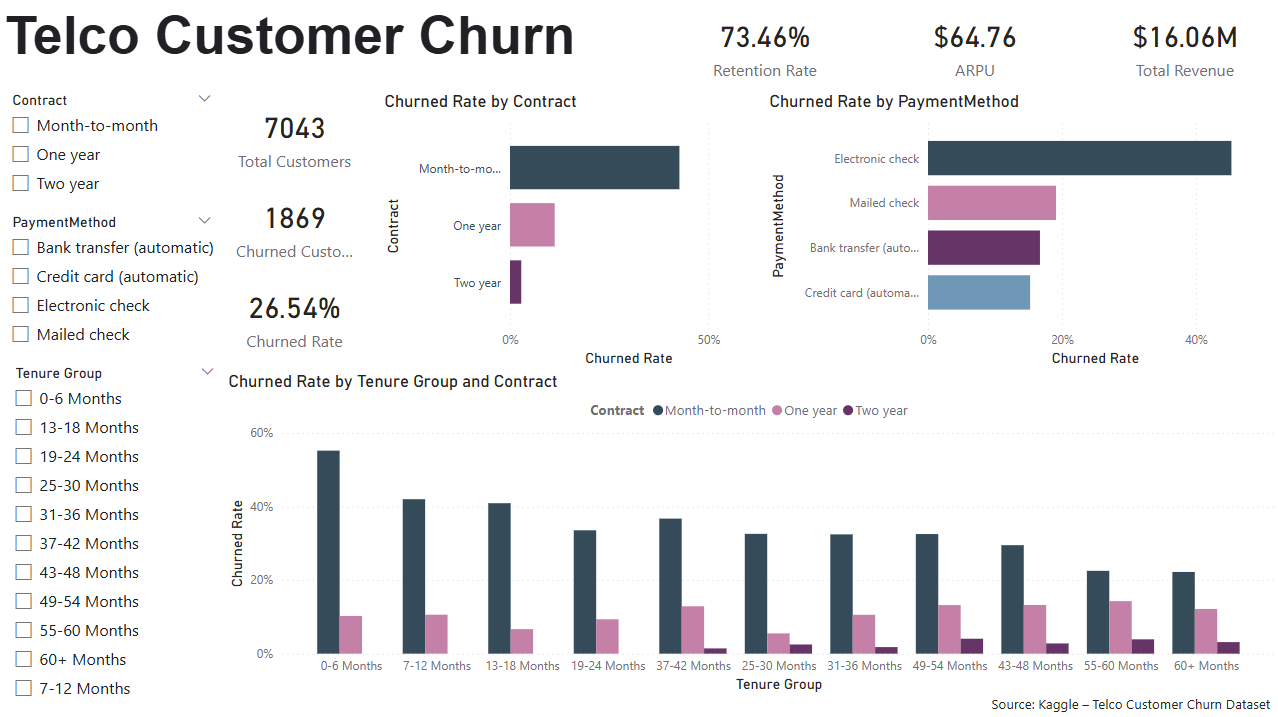

The dashboard page shown, as its layout file describes it:
{"tool":"powerbi","page":{"name":"Page 1","canvas":[1280,720],"ordinal":0},"visuals":[{"type":"card","fields":{"Values":["WA_Fn_UseC__Telco_Customer_Churn.Total Customers"]},"box":[227,91,135,90],"z":0},{"type":"textbox","box":[0,0,609.8,94.3],"z":1000},{"type":"card","fields":{"Values":["WA_Fn_UseC__Telco_Customer_Churn.Churned Customers"]},"box":[227,181,135,90],"z":2000},{"type":"card","fields":{"Values":["WA_Fn_UseC__Telco_Customer_Churn.Churned Rate"]},"box":[227,271,135,90],"z":3000},{"type":"card","fields":{"Values":["WA_Fn_UseC__Telco_Customer_Churn.Retention Rate"]},"box":[670,0,190,90],"z":4000},{"type":"clusteredColumnChart","fields":{"Category":["WA_Fn_UseC__Telco_Customer_Churn.Tenure Group"],"Y":["WA_Fn_UseC__Telco_Customer_Churn.Churned Rate"],"Series":["WA_Fn_UseC__Telco_Customer_Churn.Contract"]},"box":[224,371,1056,326],"z":5000},{"type":"slicer","fields":{"Values":["WA_Fn_UseC__Telco_Customer_Churn.Contract"]},"box":[0,87,224,122],"z":6000},{"type":"slicer","fields":{"Values":["WA_Fn_UseC__Telco_Customer_Churn.PaymentMethod"]},"box":[0,209,224,151],"z":7000},{"type":"card","fields":{"Values":["WA_Fn_UseC__Telco_Customer_Churn.Total Revenue"]},"box":[1090,0,190,90],"z":8000},{"type":"card","fields":{"Values":["WA_Fn_UseC__Telco_Customer_Churn.ARPU"]},"box":[880,0,190,90],"z":9000},{"type":"barChart","fields":{"Y":["WA_Fn_UseC__Telco_Customer_Churn.Churned Rate"],"Category":["WA_Fn_UseC__Telco_Customer_Churn.Contract"]},"box":[380,91,385,280],"z":10000},{"type":"barChart","fields":{"Y":["WA_Fn_UseC__Telco_Customer_Churn.Churned Rate"],"Category":["WA_Fn_UseC__Telco_Customer_Churn.PaymentMethod"]},"box":[765,91,515,280],"z":11000},{"type":"slicer","fields":{"Values":["WA_Fn_UseC__Telco_Customer_Churn.Tenure Group"]},"box":[3,360,224,360],"z":15001},{"type":"textbox","box":[987,690,293,30],"z":15002}]}

Visuals, with their boxes in screenshot pixels (x1, y1, x2, y2), scaled from the page's 1280x720 canvas onto the 1278x717 screenshot:
card - WA_Fn_UseC__Telco_Customer_Churn.Total Customers: (227,91,361,180)
textbox: (0,0,609,94)
card - WA_Fn_UseC__Telco_Customer_Churn.Churned Customers: (227,180,361,270)
card - WA_Fn_UseC__Telco_Customer_Churn.Churned Rate: (227,270,361,359)
card - WA_Fn_UseC__Telco_Customer_Churn.Retention Rate: (669,0,859,90)
clusteredColumnChart - WA_Fn_UseC__Telco_Customer_Churn.Tenure Group x WA_Fn_UseC__Telco_Customer_Churn.Churned Rate: (224,369,1277,694)
slicer - WA_Fn_UseC__Telco_Customer_Churn.Contract: (0,87,224,208)
slicer - WA_Fn_UseC__Telco_Customer_Churn.PaymentMethod: (0,208,224,358)
card - WA_Fn_UseC__Telco_Customer_Churn.Total Revenue: (1088,0,1277,90)
card - WA_Fn_UseC__Telco_Customer_Churn.ARPU: (879,0,1068,90)
barChart - WA_Fn_UseC__Telco_Customer_Churn.Churned Rate x WA_Fn_UseC__Telco_Customer_Churn.Contract: (379,91,764,369)
barChart - WA_Fn_UseC__Telco_Customer_Churn.Churned Rate x WA_Fn_UseC__Telco_Customer_Churn.PaymentMethod: (764,91,1277,369)
slicer - WA_Fn_UseC__Telco_Customer_Churn.Tenure Group: (3,358,227,716)
textbox: (985,687,1277,716)
